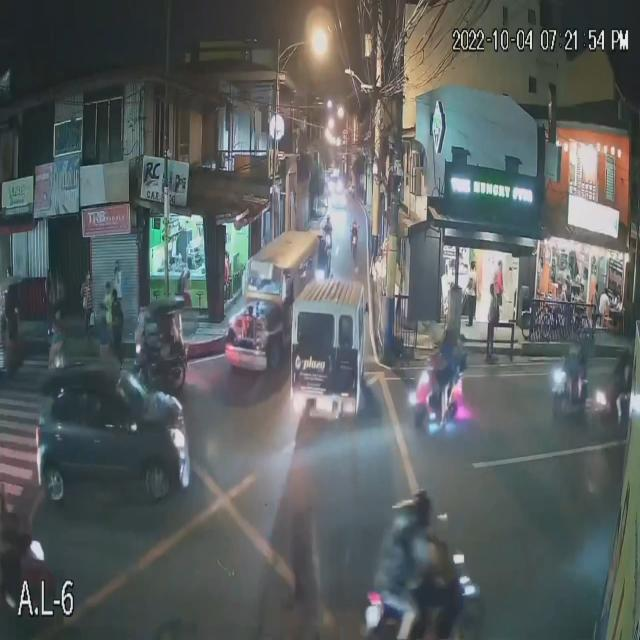Full-Faced: (392, 493, 414, 531), (413, 487, 430, 523), (442, 316, 457, 344)
